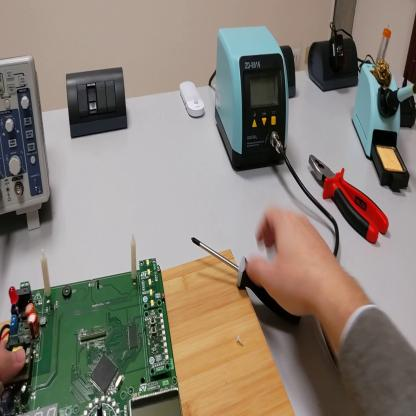hand: (247, 208, 336, 321), (2, 337, 29, 387)
low voltage board: (2, 235, 181, 415)
oscilloscope: (2, 61, 54, 233)
pliers: (310, 154, 391, 246)
screwdriver-: (190, 237, 300, 326)
socket: (310, 37, 360, 92), (282, 45, 298, 99), (398, 89, 416, 130)
welder base: (354, 58, 412, 194)
welder probe tip: (379, 74, 414, 121)
welder station: (216, 30, 290, 170)
working area: (161, 250, 293, 416)
